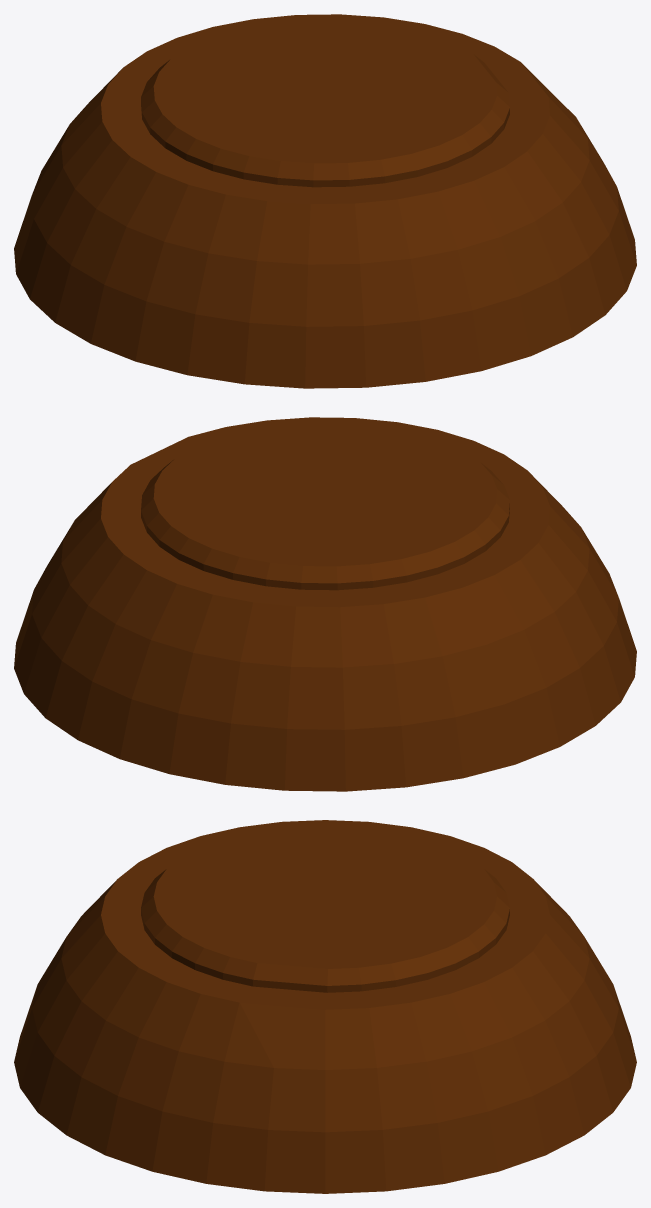
Rendered from cookie.glb.
3 renders of one model, top to bottom at view 1: azimuth 30°, elevation 25°; view 2: azimuth 150°, elevation 25°; view 3: azimuth 270°, elevation 25°, orthographic.
Visible parts, largest first — view 1: Sphere; view 2: Sphere; view 3: Sphere.
Boxes of the visible parts, <box> form: Sphere: <box>14,14,636,388</box>; Sphere: <box>14,417,636,791</box>; Sphere: <box>14,820,636,1193</box>.
Size of the model in its own units: 1.96 by 0.5758 by 1.96.
